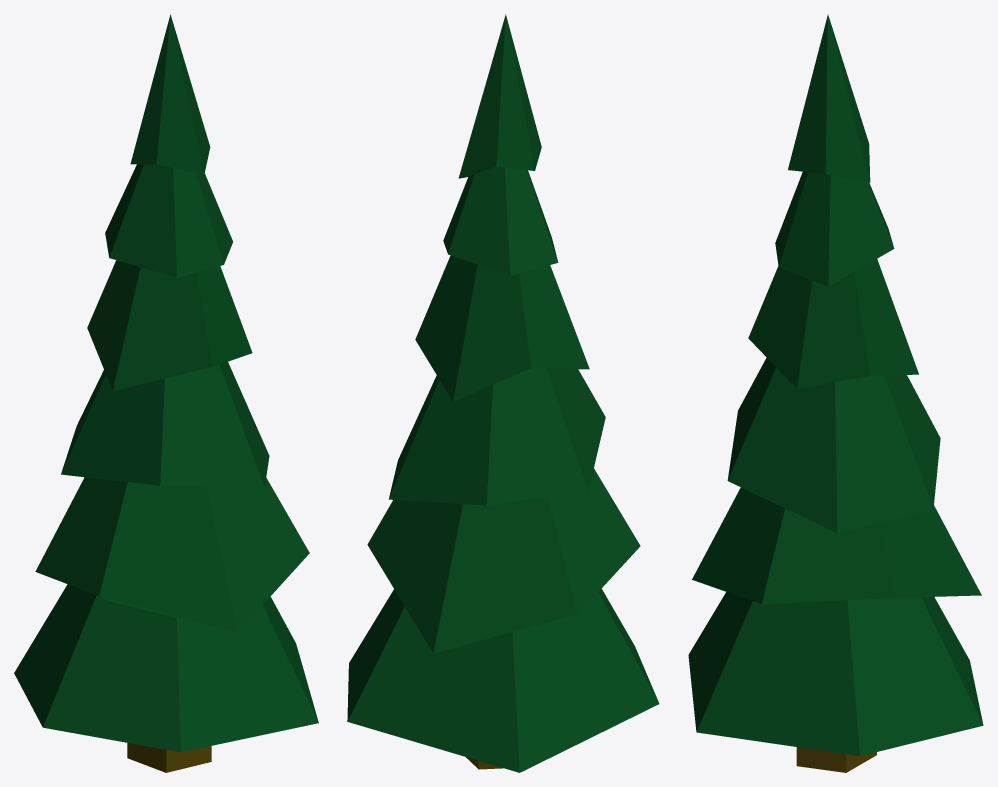
Rendered from Tree8.fbx.
The picture shows the model from 3 angles, left to right: view 1: azimuth 30°, elevation 25°; view 2: azimuth 150°, elevation 25°; view 3: azimuth 270°, elevation 25°; orthographic projection.
Parts seen in each view (by area): view 1: Wood.003; view 2: Wood.003; view 3: Wood.003.
Boxes of the visible parts, x1=… form: Wood.003: x1=14, y1=14, x2=318, y2=772; Wood.003: x1=347, y1=14, x2=659, y2=772; Wood.003: x1=688, y1=14, x2=983, y2=772.
Size of the model in its own units: 410 by 1029 by 372.
